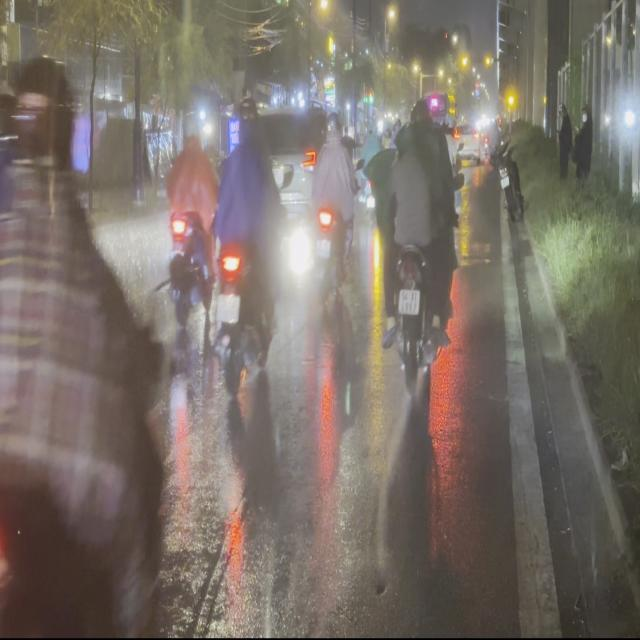helmet: (237, 95, 261, 136), (324, 110, 343, 140)
licenseplate: (0, 0, 183, 640), (367, 98, 470, 386), (209, 94, 290, 396), (308, 109, 361, 316)
nohelmet: (215, 293, 241, 323), (398, 290, 419, 315)
